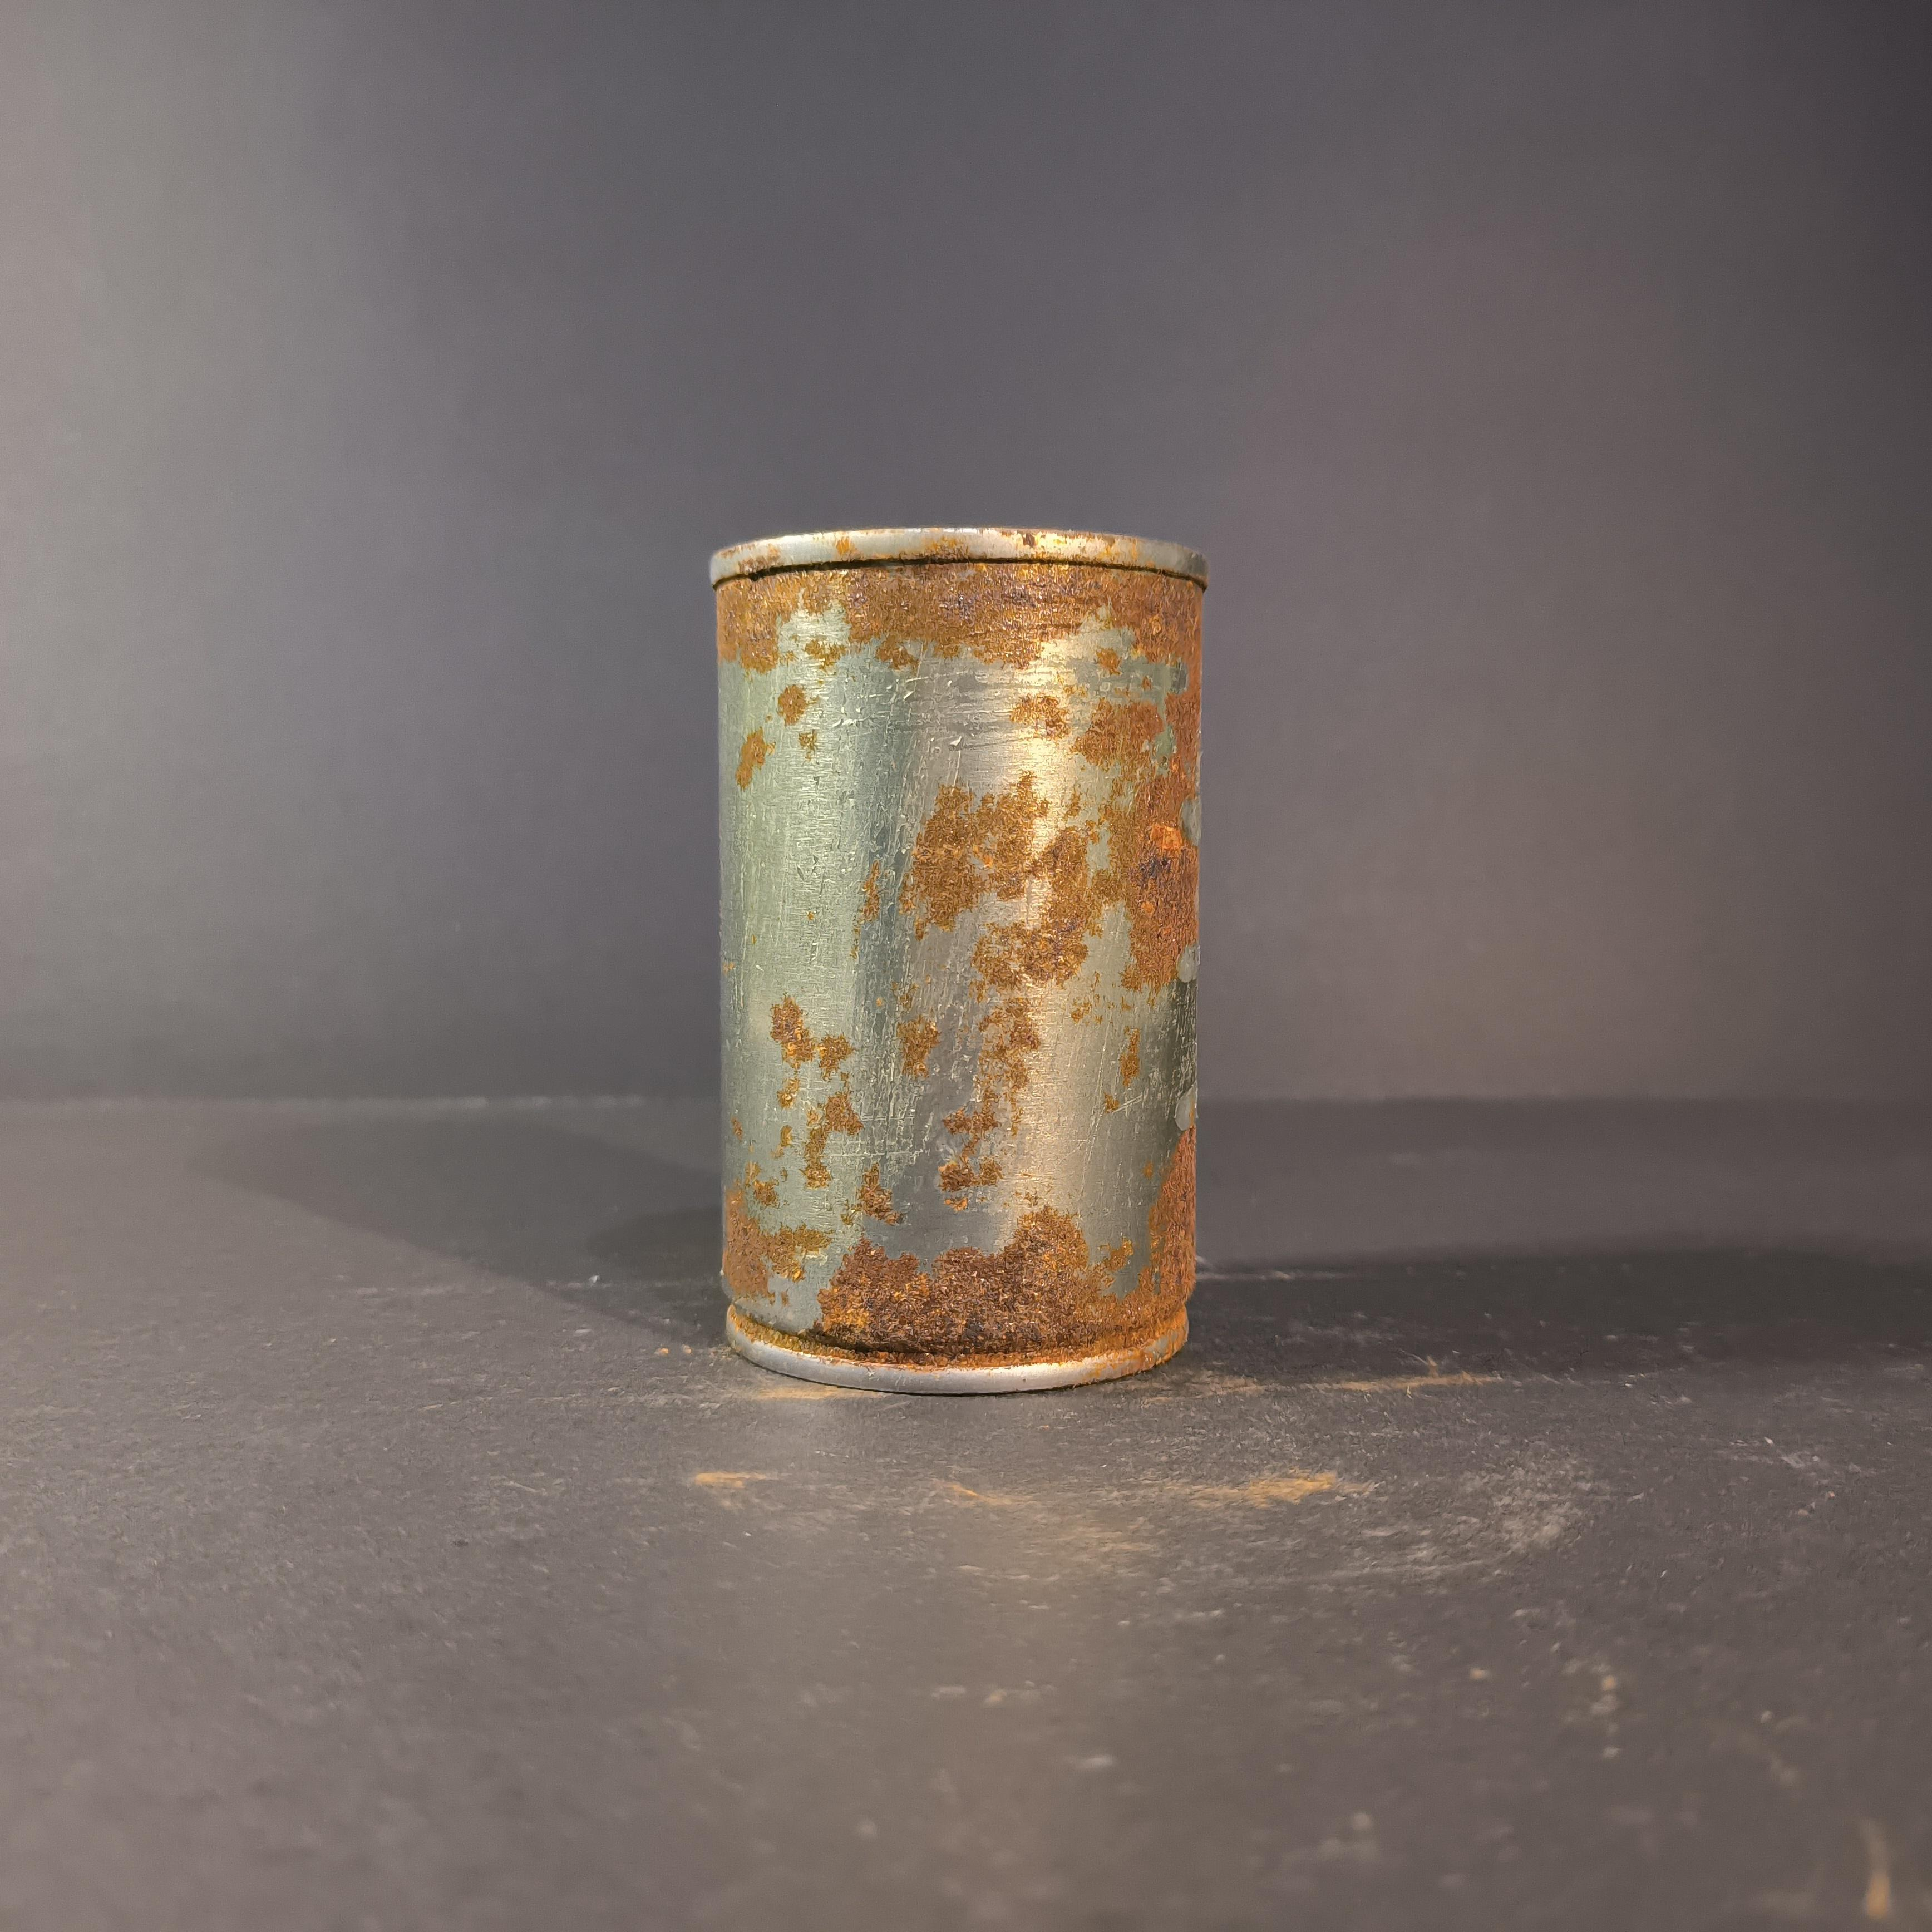Rusted: (699, 497, 1240, 1403)
